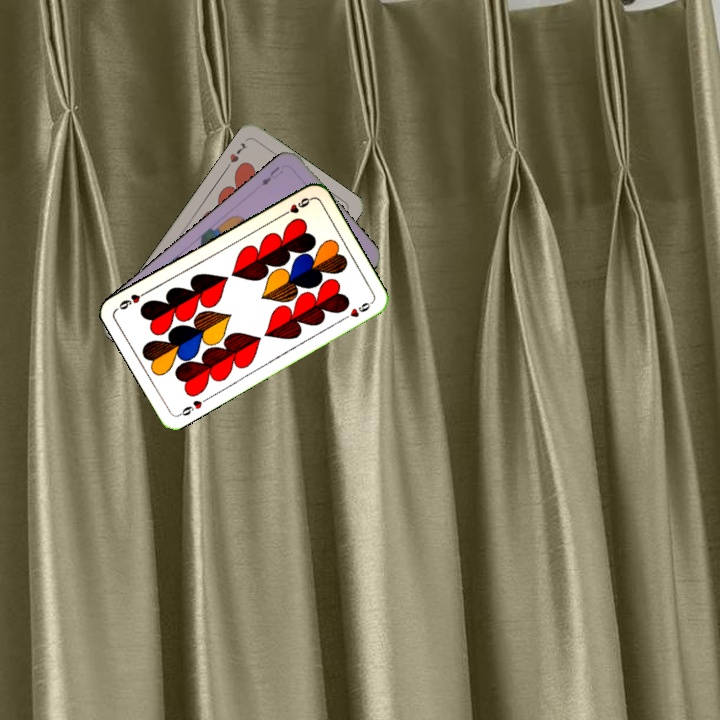EU: (257, 162, 286, 188)
H7: (222, 138, 250, 171)
H9: (174, 393, 211, 419), (277, 194, 314, 219)
